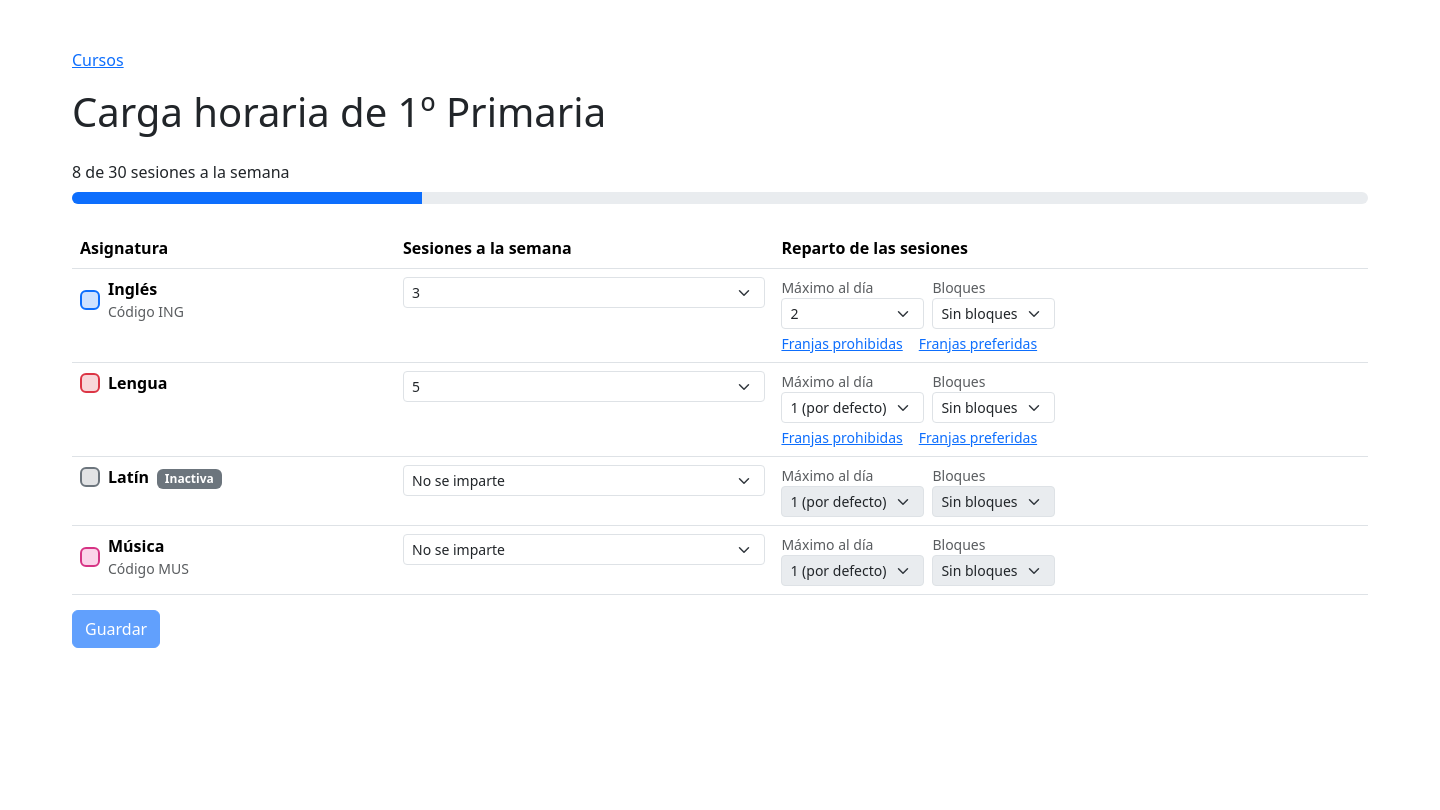
Scenario: CourseWorkloadPage › as an administrator › stays on the page with what the server answered and says that it was saved
Select "4" in the dropdown named "Sesiones a la semana de Inglés": x=584, y=292 [403,277,765,308]
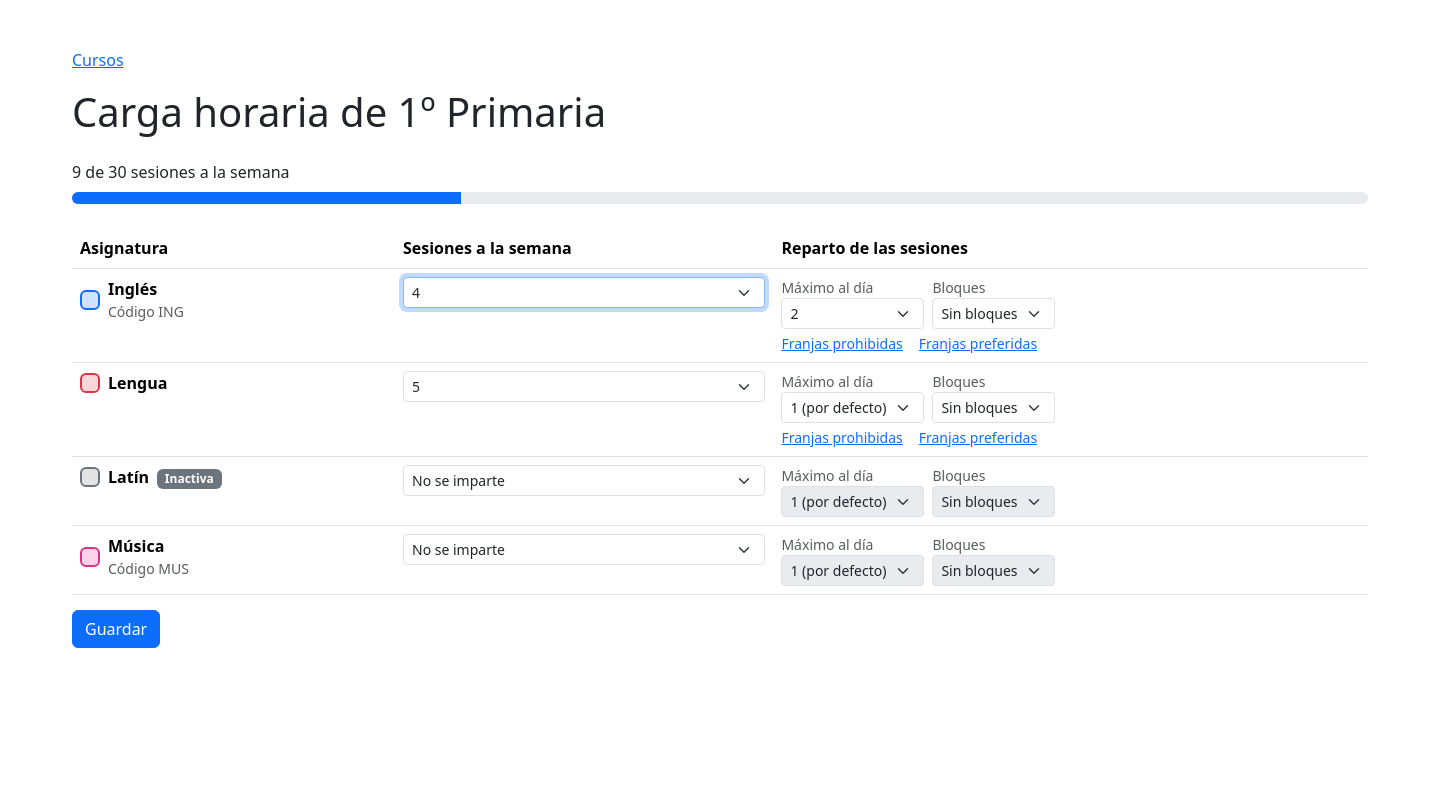
Click the button "Guardar": x=116, y=629 [72,610,160,648]
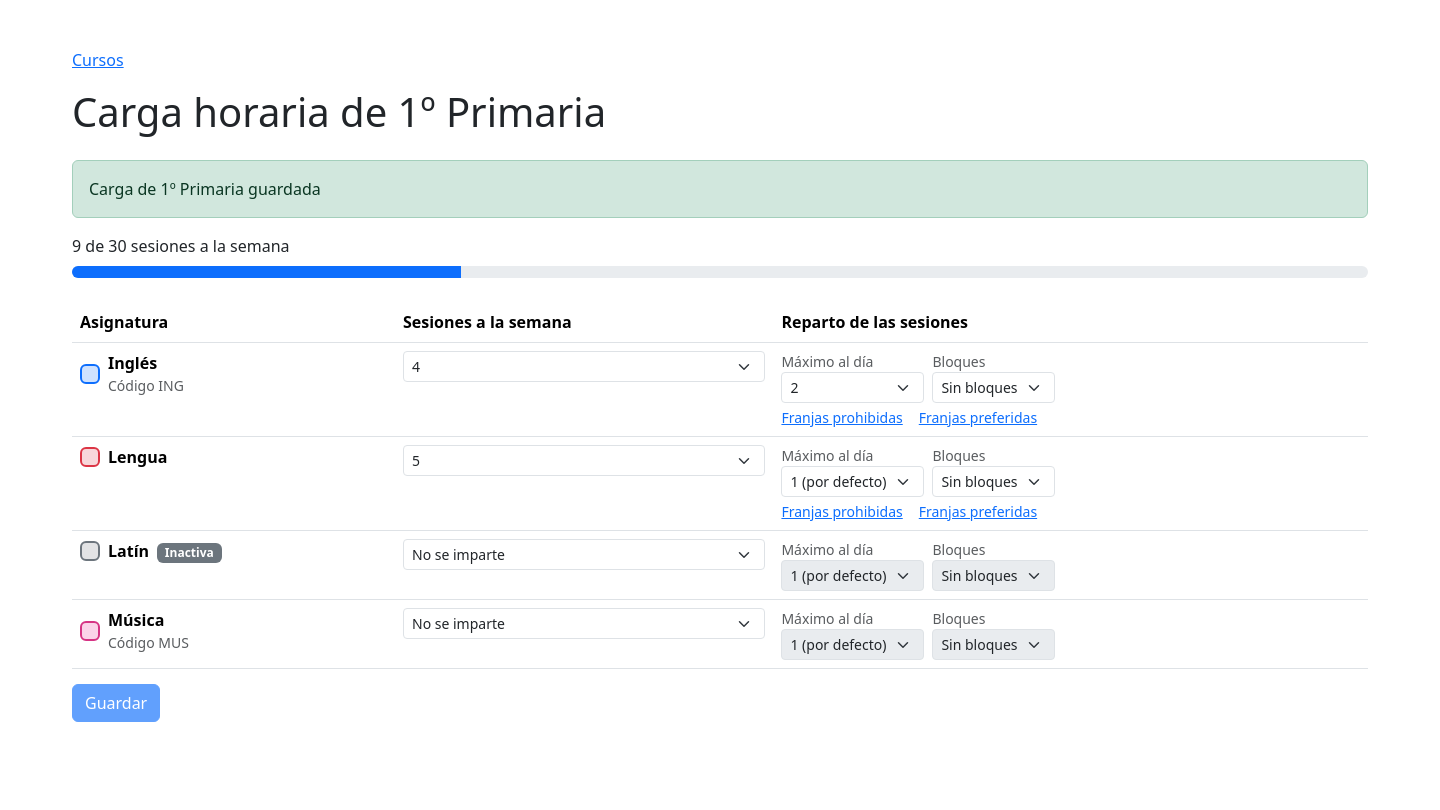
Check: the text "9 de 30 sesiones a la semana" is shown, box [72,235,290,257]
Check: the text "Carga de 1º Primaria guardada" is shown, box [72,160,1368,218]
Check: the button "Guardar" is disabled, box [72,684,160,722]
